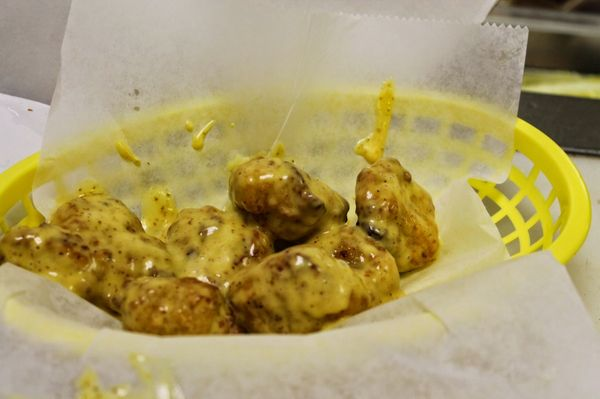sandwich: (1, 81, 467, 337)
